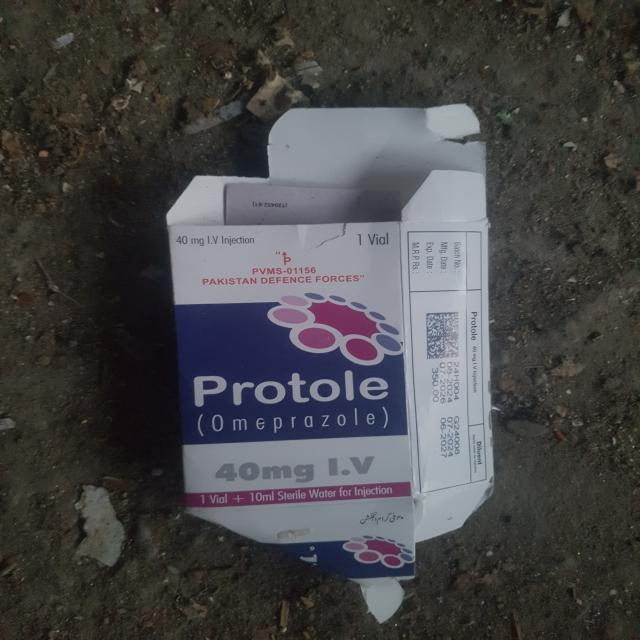electronic: (155, 104, 495, 572), (347, 576, 405, 624)
